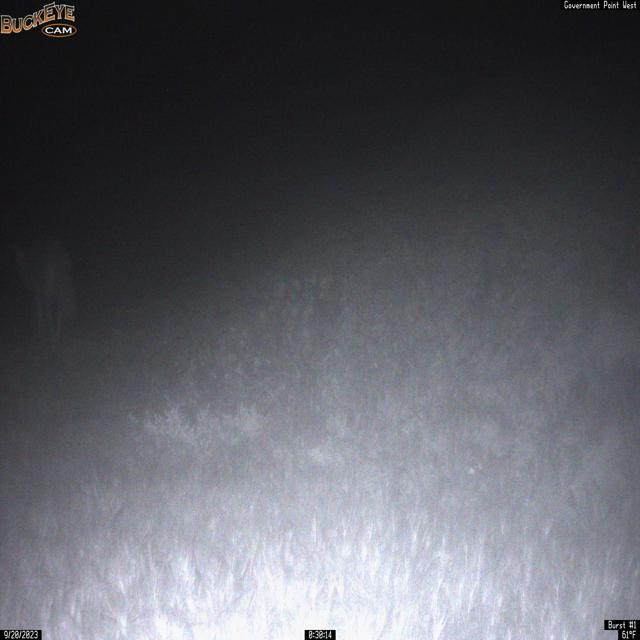coyote: (12, 233, 77, 350)
